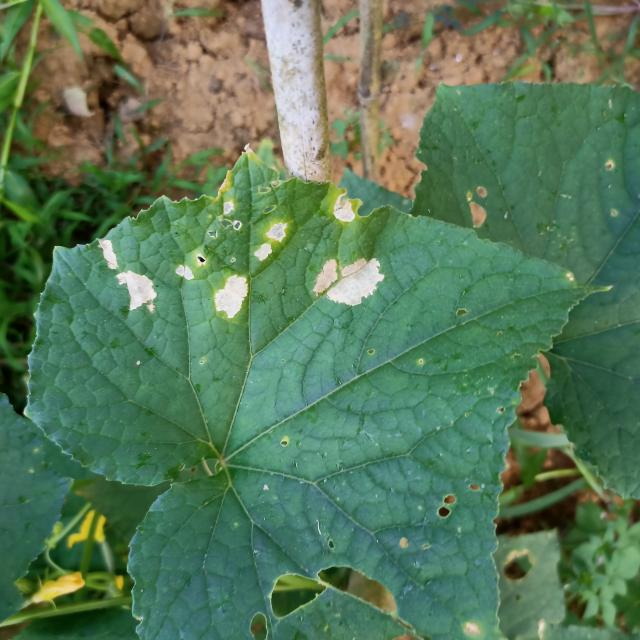disease_cucumber: (171, 199, 293, 326), (92, 237, 160, 319), (308, 250, 388, 310), (326, 186, 360, 226)
